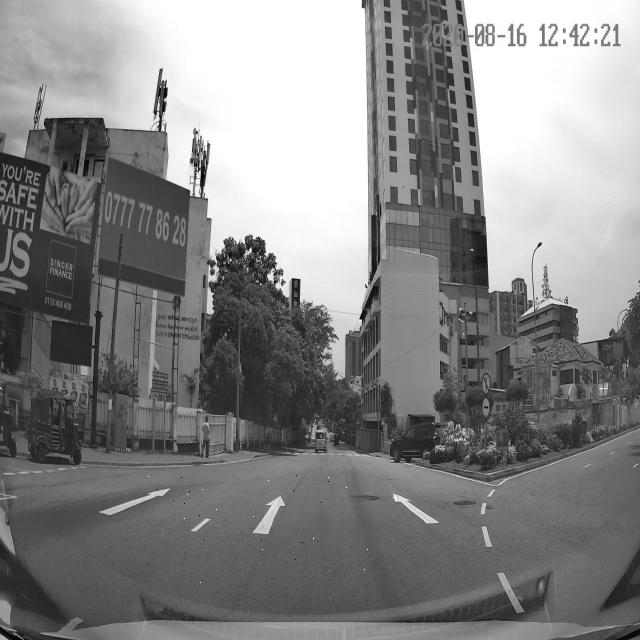diamond: (144, 474, 369, 585)
